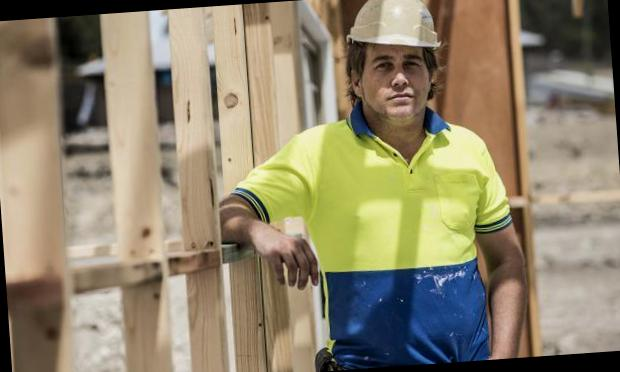helmet: (334, 0, 452, 67)
no_vest: (273, 100, 519, 370)
person: (254, 0, 526, 370)
